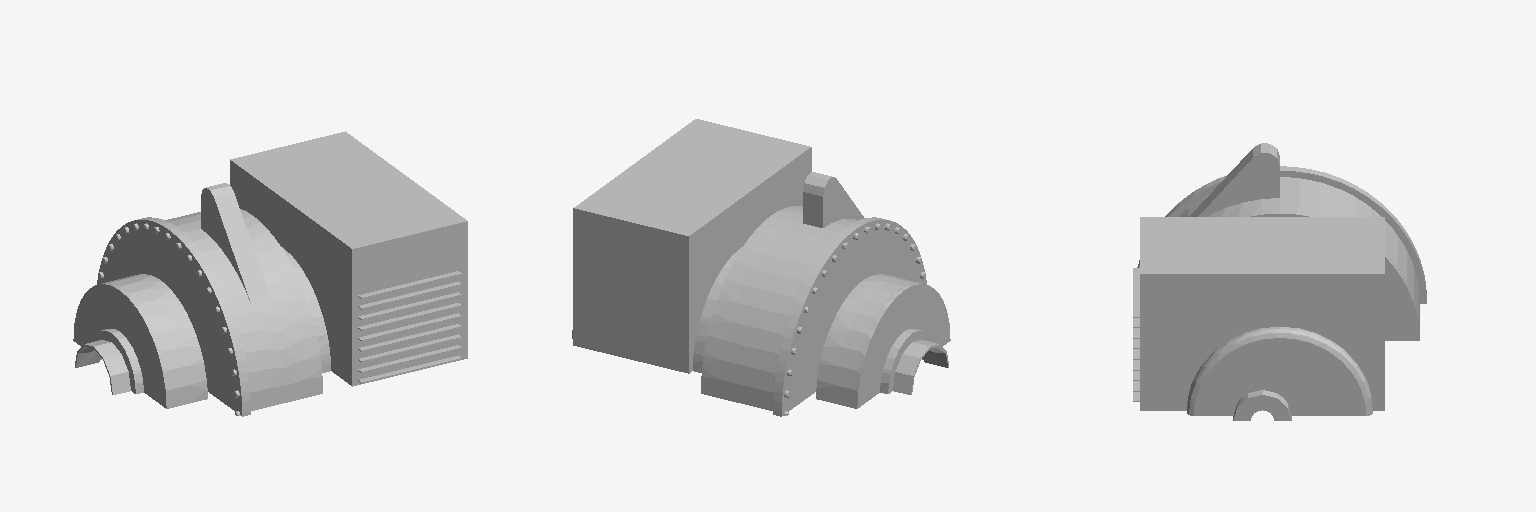
The model's file is gearbox.obj.
The picture shows the model from 3 angles: view 1: azimuth 30°, elevation 25°; view 2: azimuth 150°, elevation 25°; view 3: azimuth 270°, elevation 25°; orthographic projection.
Parts seen in each view (by area): view 1: 1; view 2: 1; view 3: 1.
Part boxes in pixels (left/top/right/bottom): 1: left=73, top=131, right=467, bottom=416; 1: left=572, top=119, right=950, bottom=416; 1: left=1133, top=143, right=1426, bottom=420.
Size of the model in its own units: 1606 by 812 by 1260.